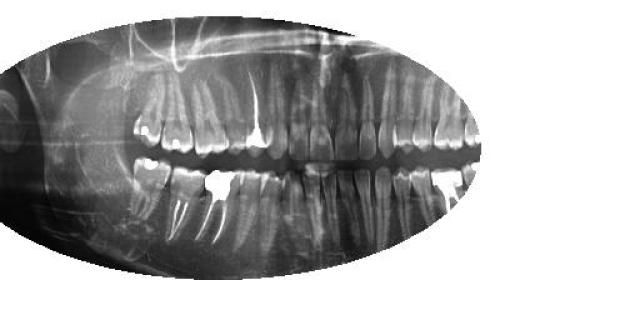Fillings: (129, 155, 171, 223), (161, 70, 194, 154), (132, 89, 166, 148)
Implant: (192, 168, 242, 246), (244, 65, 268, 156), (430, 166, 466, 215)
